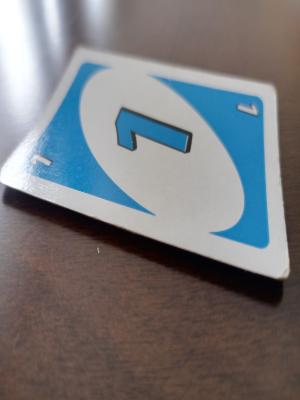blue: (60, 95, 265, 218)
num_1: (229, 94, 263, 123)
